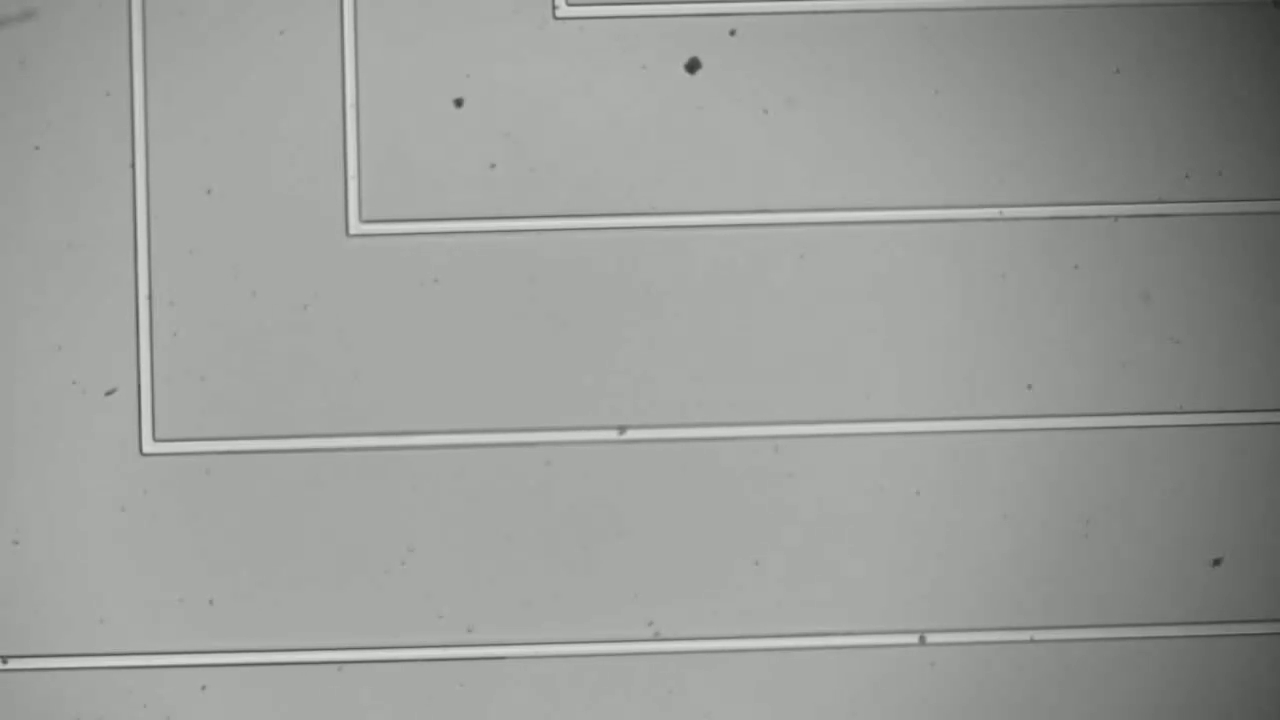stains_enbedded: (909, 619, 938, 653), (612, 416, 637, 447)
